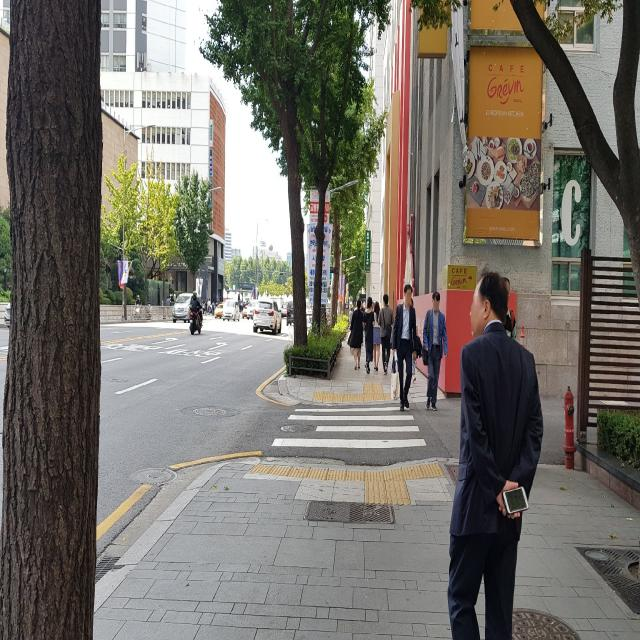횡단보도: (271, 406, 427, 449)
